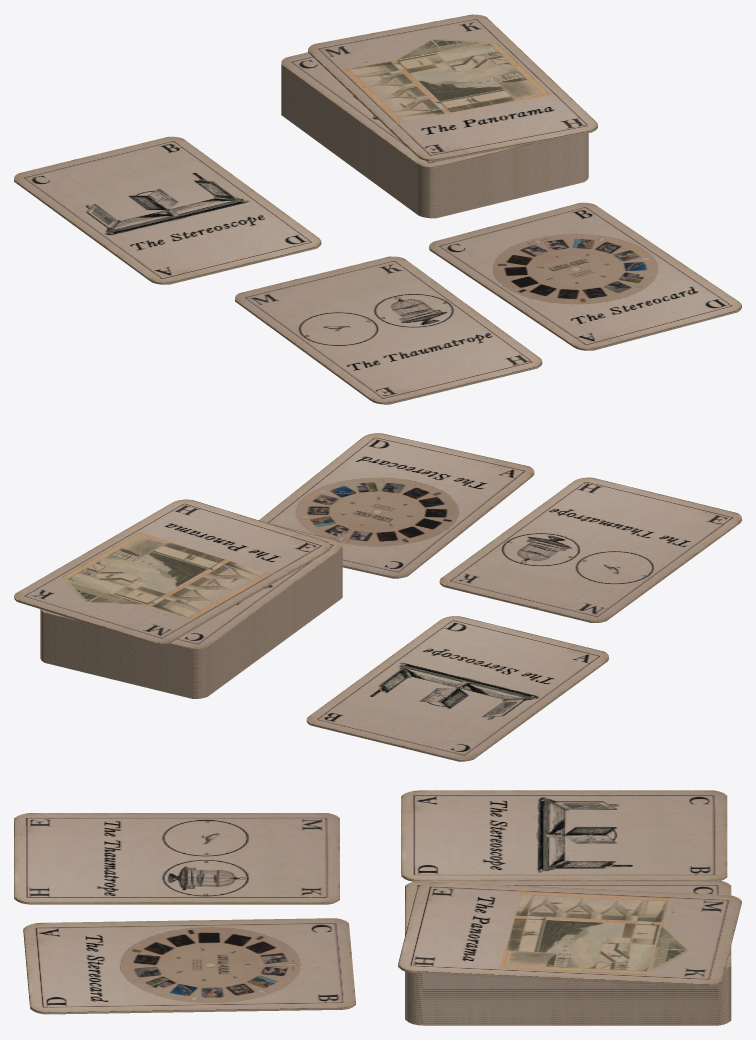
Rendered from playingcards_all2.fbx.
The picture shows the model from 3 angles, top to bottom: view 1: azimuth 30°, elevation 25°; view 2: azimuth 150°, elevation 25°; view 3: azimuth 270°, elevation 25°; orthographic projection. The views are drawn at different scales.
Parts seen in each view (by area): view 1: Ace_Of_Spades.005; view 2: Ace_Of_Spades.005; view 3: Ace_Of_Spades.005.
Boxes of the visible parts, x1=… form: Ace_Of_Spades.005: x1=14, y1=14, x2=741, y2=404; Ace_Of_Spades.005: x1=14, y1=433, x2=741, y2=761; Ace_Of_Spades.005: x1=14, y1=790, x2=741, y2=1025.
Bounding box in the file's own units: 1627 × 175 × 2010.
